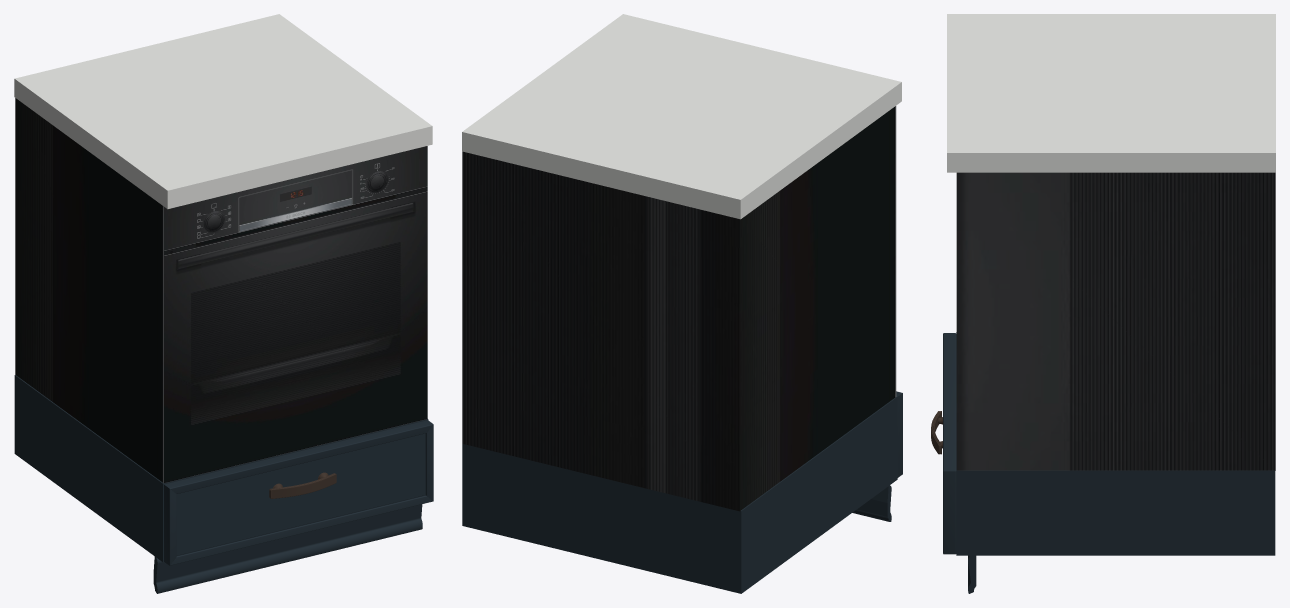
File: oven_bottom.gltf
The picture shows the model from 3 angles, left to right: view 1: azimuth 30°, elevation 25°; view 2: azimuth 150°, elevation 25°; view 3: azimuth 270°, elevation 25°; orthographic projection. The views are drawn at different scales.
Visible parts, largest first — view 1: Cube, Box8222915, Box8222906, Rectangle038, Rectangle060, SPR-5053, 10407_Door_Knobs_ Pulls_v1_max2009_SG_iteration-2.002; view 2: Cube, Box8222915, Rectangle038, SPR-5053; view 3: Cube, Box8222915, Rectangle038, Rectangle060.
Part boxes in pixels (x1,y1,x2,y2): Cube: (15,98,427,483); Box8222915: (14,14,432,209); Box8222906: (176,433,425,555); Rectangle038: (14,375,428,562); Rectangle060: (164,420,433,565); SPR-5053: (153,504,422,593); 10407_Door_Knobs_ Pulls_v1_max2009_SG_iteration-2.002: (269,472,336,498); Cube: (462,106,896,511); Box8222915: (462,14,901,219); Rectangle038: (462,396,897,593); SPR-5053: (852,485,891,521); Cube: (956,172,1275,470); Box8222915: (947,14,1275,172); Rectangle038: (956,332,1275,555); Rectangle060: (943,333,956,554).
Bounding box in the file's own units: 0.6 × 0.8873 × 0.6288.
Materials: 7 (1 with a texture image).
